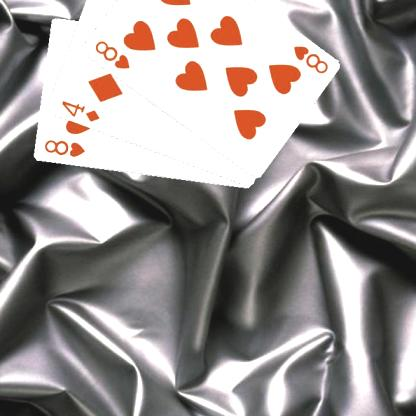4D: (58, 98, 100, 124)
8H: (290, 42, 330, 76), (91, 38, 131, 70), (42, 137, 86, 159)
